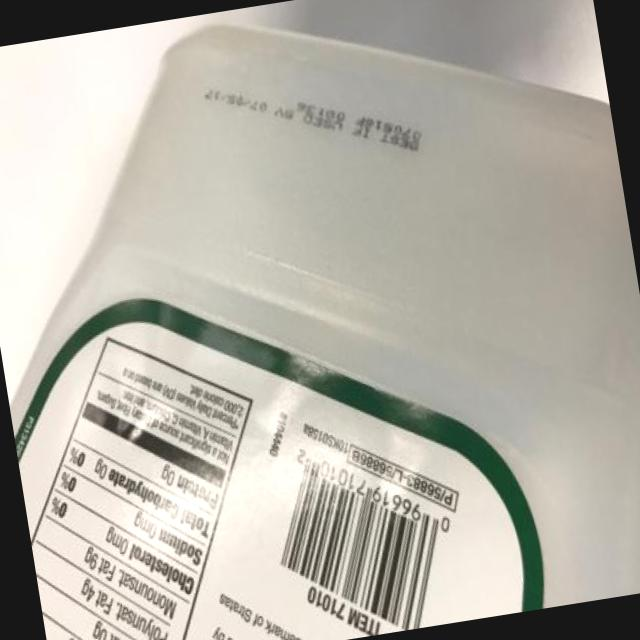bottle: (10, 27, 639, 639)
